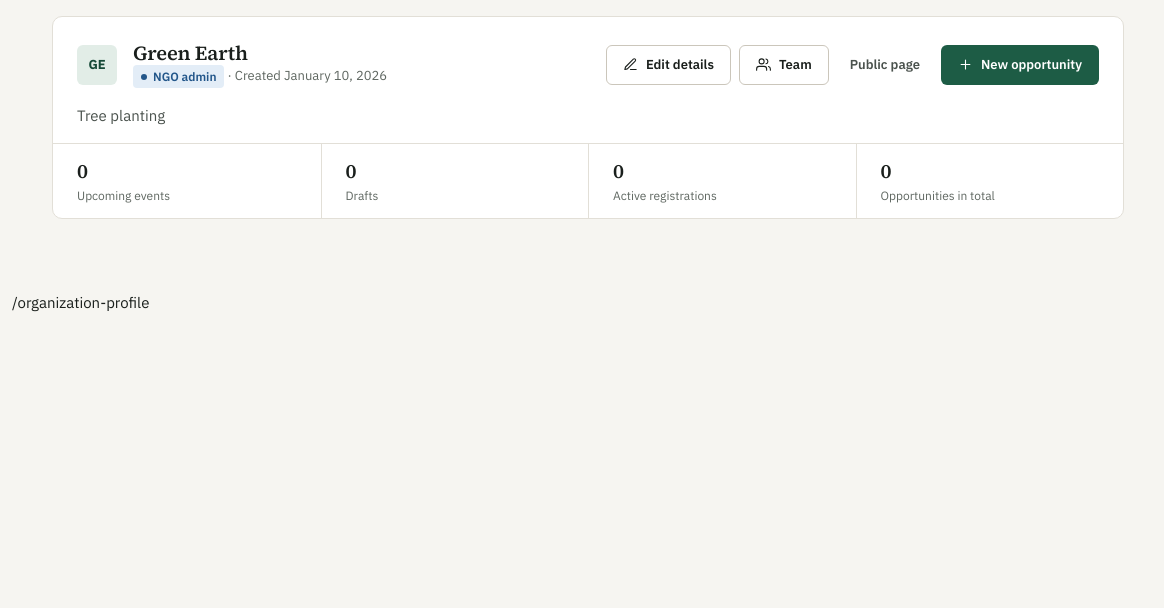
it: My organizations — editing › saves name, about, contact and social details
Click the button "Edit details" at coordinates (668, 65), box [606,45,731,85]
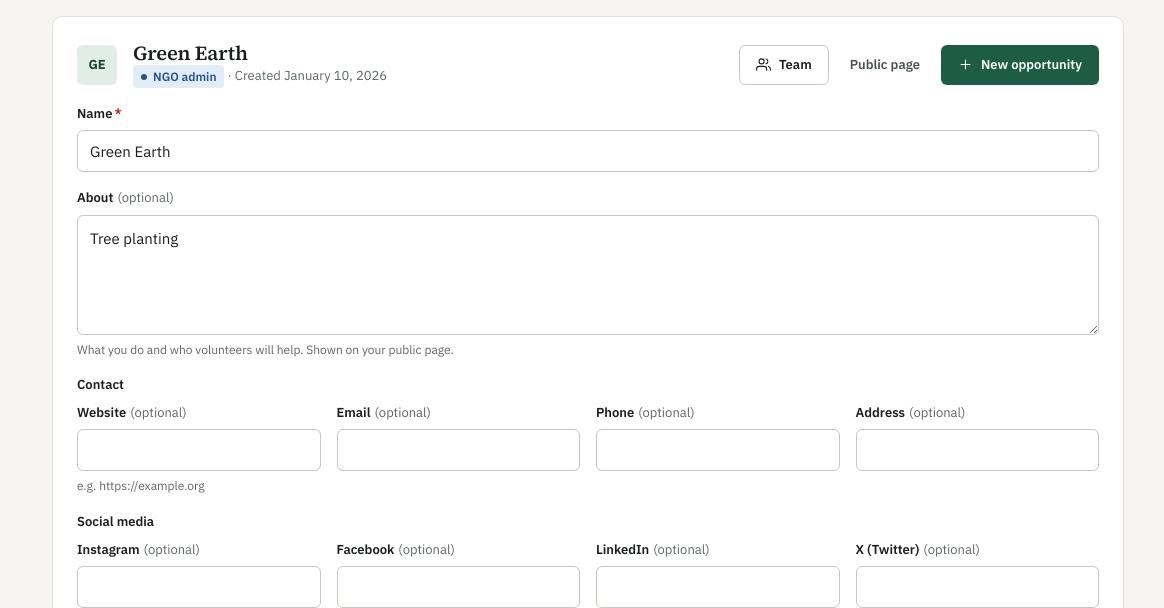
Replace the text in the field labelled "Name*" with "Green Earth Trust" at coordinates (588, 151), box [77,130,1099,172]
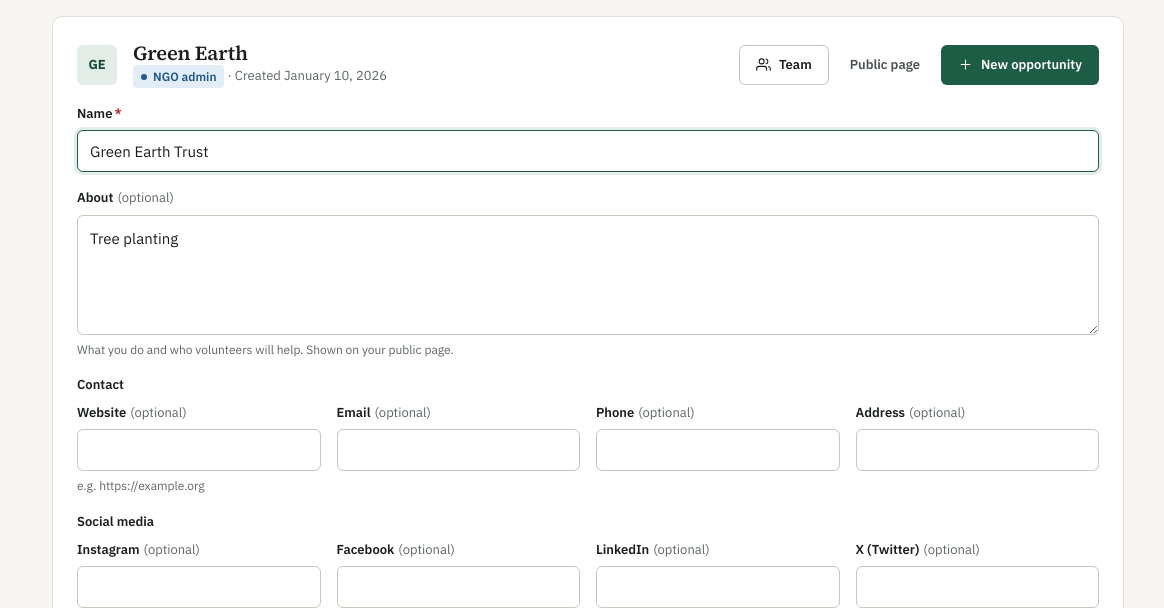
Type "https://greenearth.org" into the field labelled "Website(optional)" at coordinates (199, 450), box [77,429,320,471]
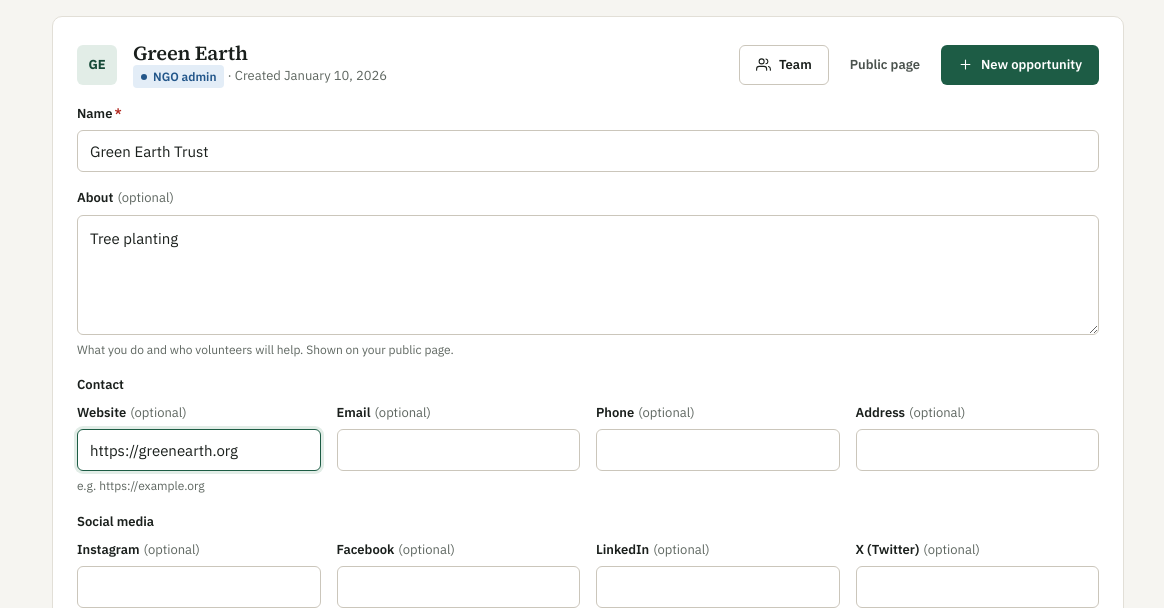
Type "+91 98765 43210" into the field labelled "Phone(optional)" at coordinates (718, 450), box [596,429,840,471]
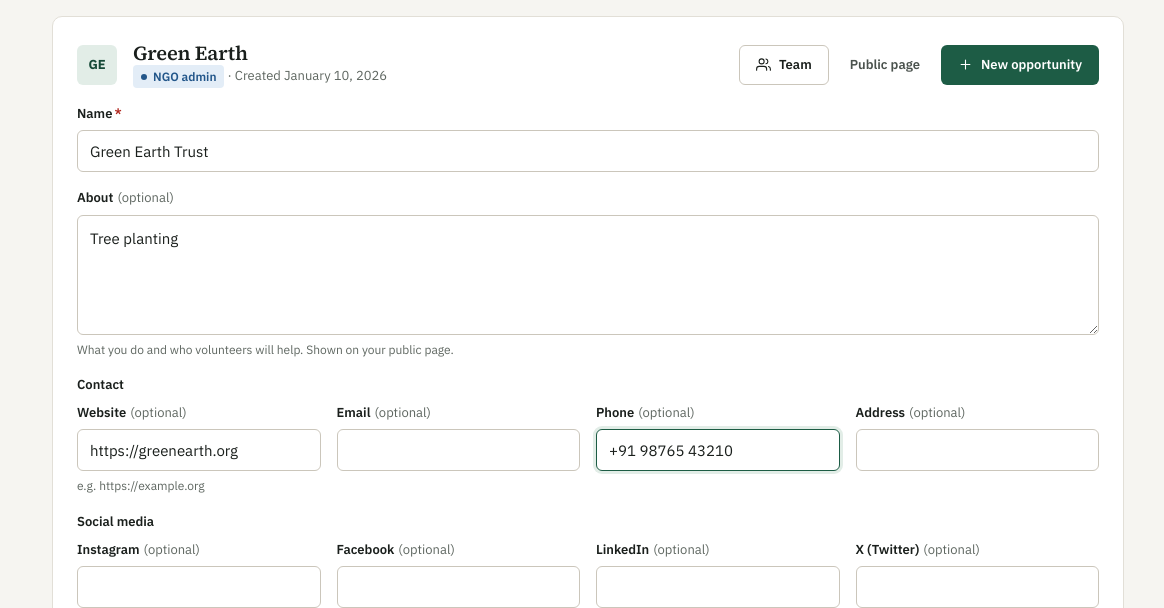
Type "@greenearth" into the field labelled "Instagram(optional)" at coordinates (199, 587), box [77,566,320,607]
(page scrolled)
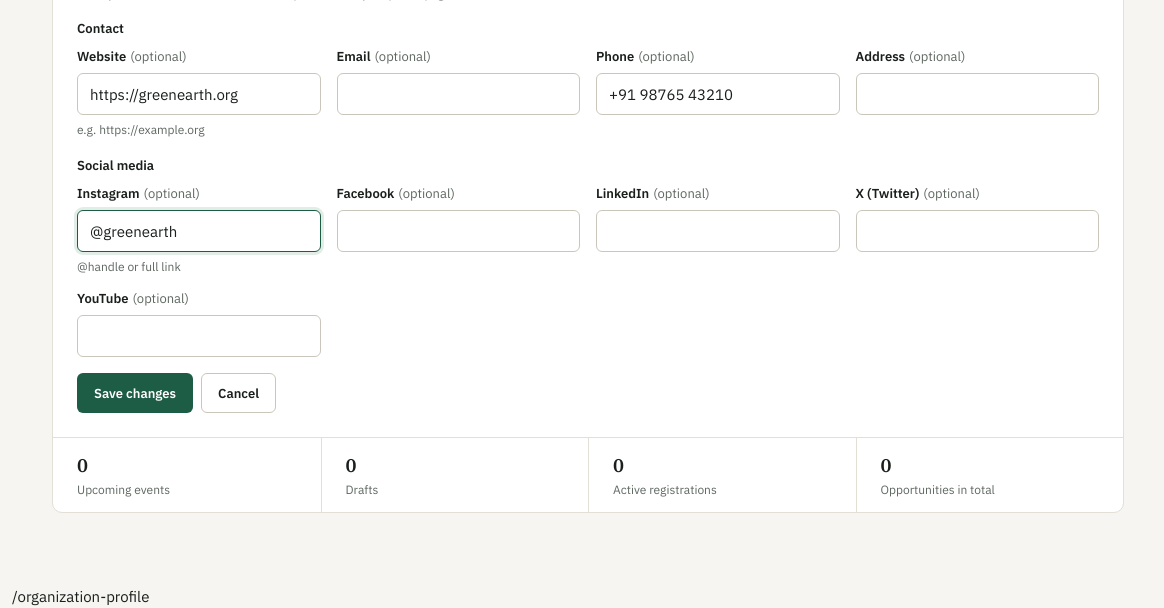
Click the button "Save changes" at coordinates (135, 393), box [77,373,193,413]
(page scrolled)
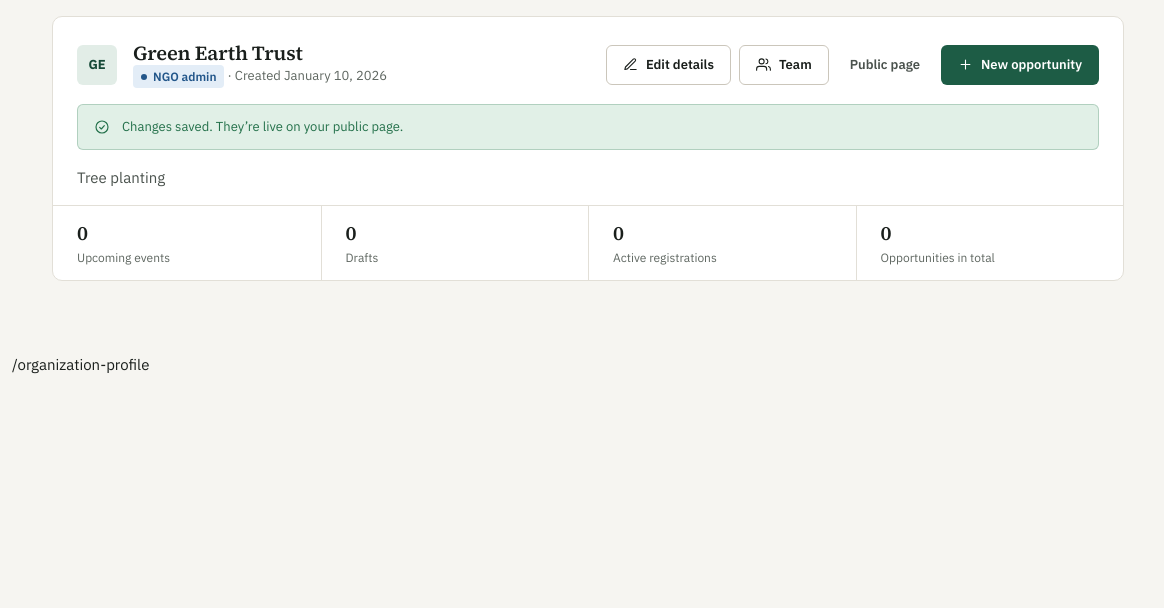
Result: the text "Changes saved. They’re live on your public page." is shown at [122,118,403,135]
Result: the heading "Green Earth Trust" is shown at [133,39,303,67]
